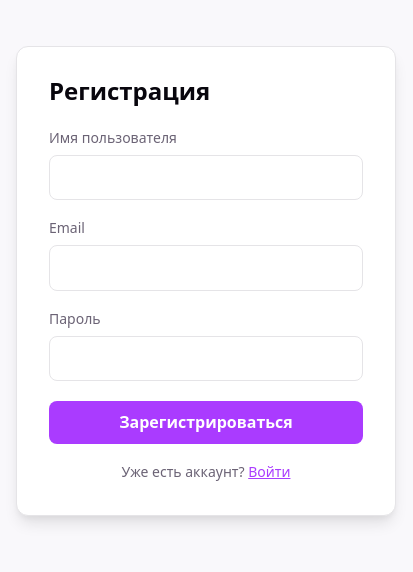
Test: Register page › shows a fallback error when the server gives no detail
Type "carol" into the field labelled "Имя пользователя" at {"x": 206, "y": 178}, box top-left (49, 155), bottom-right (363, 200)
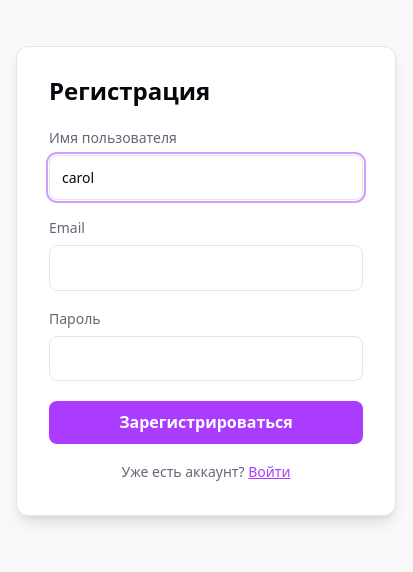
Type "carol@example.com" into the field labelled "Email" at {"x": 206, "y": 268}, box top-left (49, 245), bottom-right (363, 291)
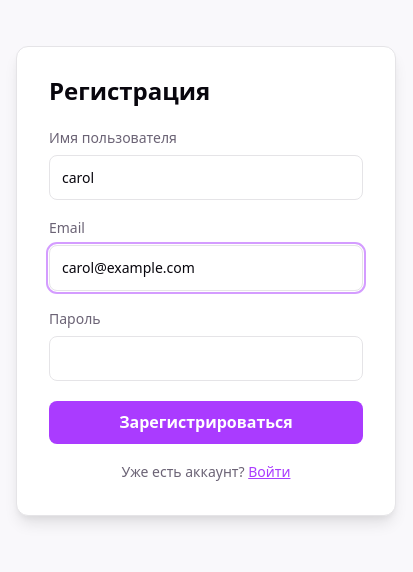
Type "password123" into the password field labelled "Пароль" at {"x": 206, "y": 358}, box top-left (49, 336), bottom-right (363, 381)
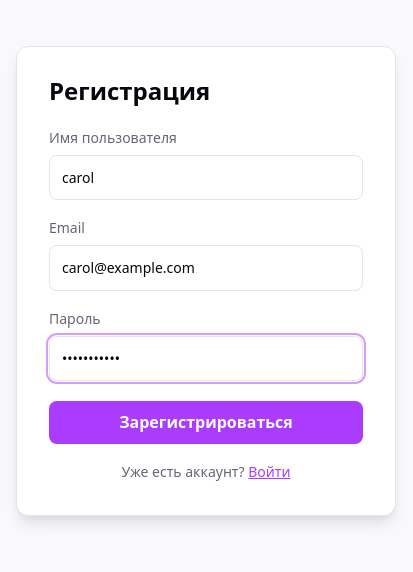
Click the button "Зарегистрироваться" at {"x": 206, "y": 423}, box top-left (49, 401), bottom-right (363, 444)
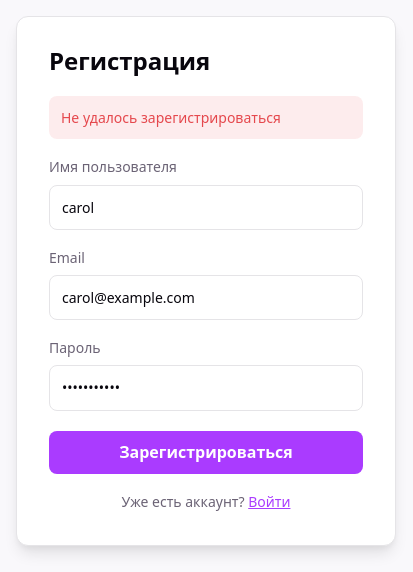
Check: the text "Не удалось зарегистрироваться" is shown, box top-left (49, 96), bottom-right (363, 139)
